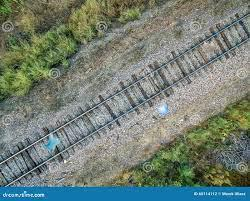Plastic: (43, 133, 64, 154), (155, 102, 172, 117)
